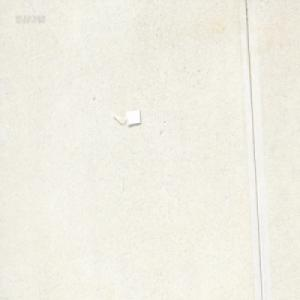LuggageTag: (110, 109, 141, 126)
